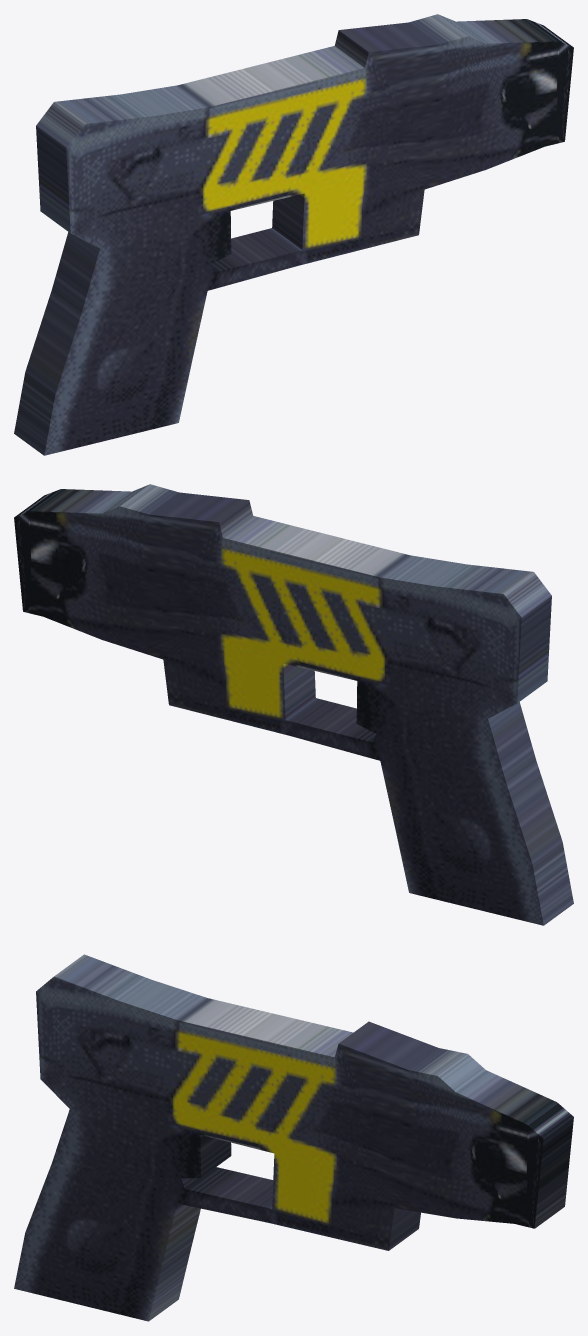
File: TASER.fbx
3 renders of one model, top to bottom at view 1: azimuth 30°, elevation 25°; view 2: azimuth 150°, elevation 25°; view 3: azimuth 330°, elevation 25°, orthographic.
Parts seen in each view (by area): view 1: Plane; view 2: Plane; view 3: Plane.
Boxes of the visible parts, x1,y1,x2,y2 form: Plane: [14, 14, 573, 455]; Plane: [14, 484, 573, 925]; Plane: [14, 954, 573, 1321].
Size of the model in its own units: 120 by 70 by 11.82.
Materials: 1 (1 with a texture image).
